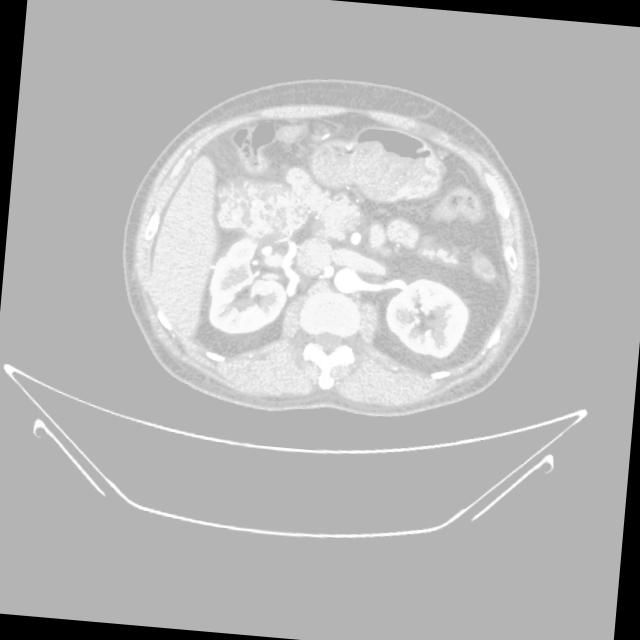TUMOR: (136, 96, 527, 347)
